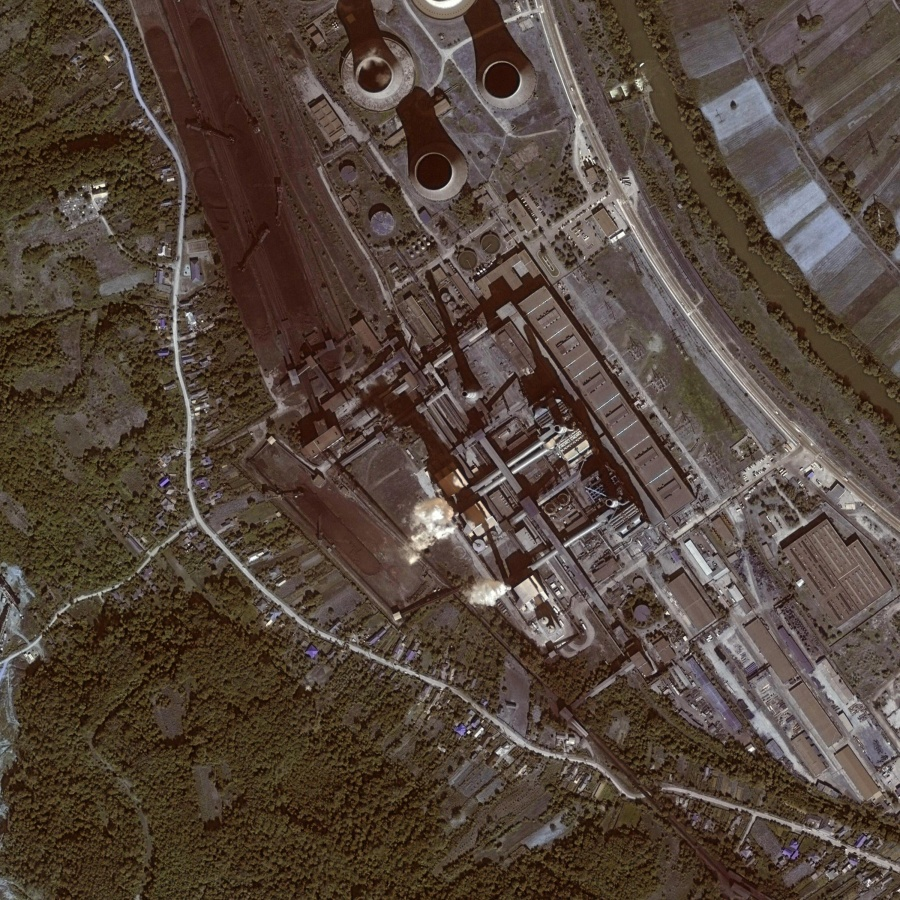PowerPlant: (294, 406, 509, 635)
